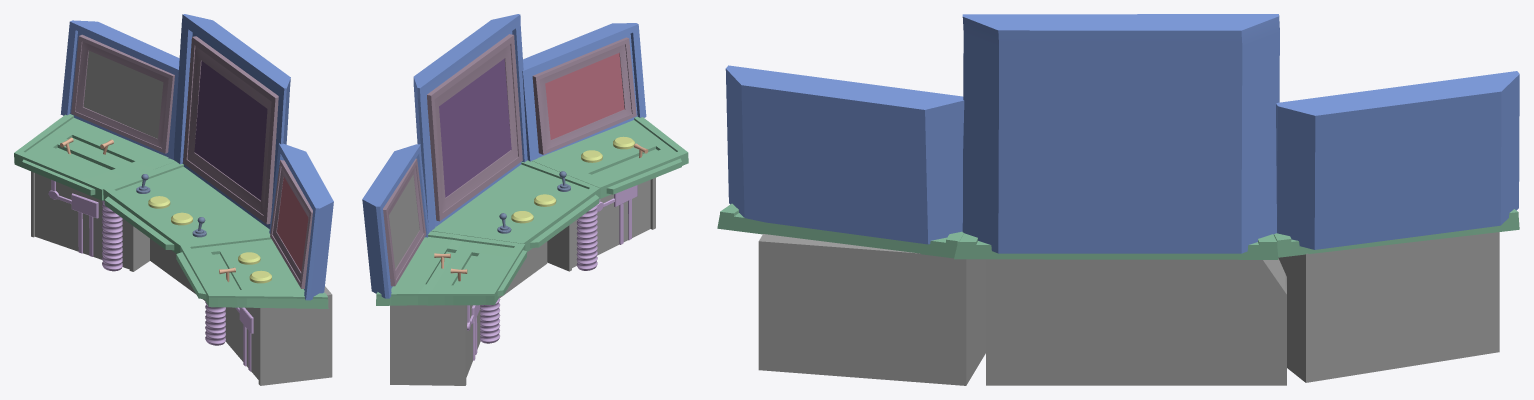
Rendered from robot_decor rigger.fbx.
3 renders of one model, left to right at view 1: azimuth 30°, elevation 25°; view 2: azimuth 150°, elevation 25°; view 3: azimuth 270°, elevation 25°, orthographic. The views are drawn at different scales.
Visible parts, largest first — view 1: tableau_de_bord; view 2: tableau_de_bord; view 3: tableau_de_bord.
Boxes of the visible parts, x1=… form: tableau_de_bord: x1=14, y1=14, x2=333, y2=385; tableau_de_bord: x1=362, y1=14, x2=688, y2=385; tableau_de_bord: x1=717, y1=14, x2=1519, y2=385.
Bounding box in the file's own units: 218 × 346 × 682.
